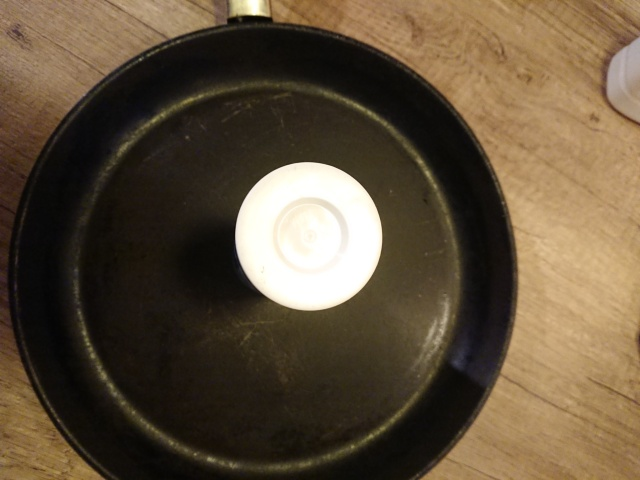Solana Pag Fine Sea Salt 250g: (227, 155, 390, 319)
